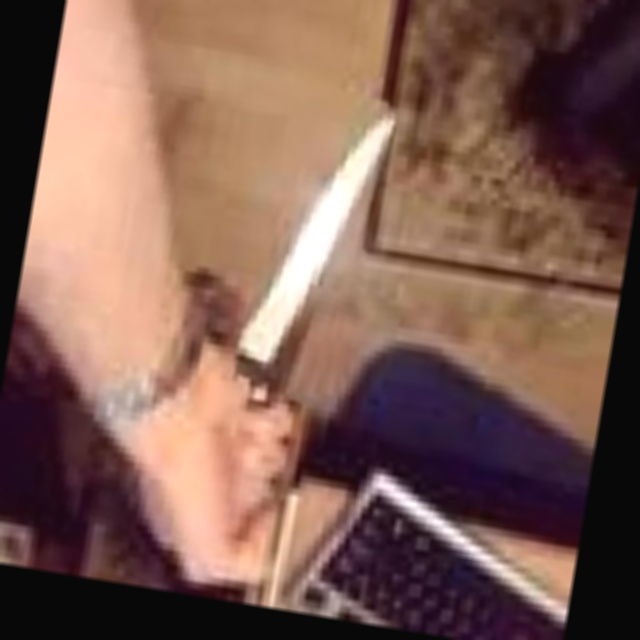Sharp-Object: (237, 81, 391, 408)
